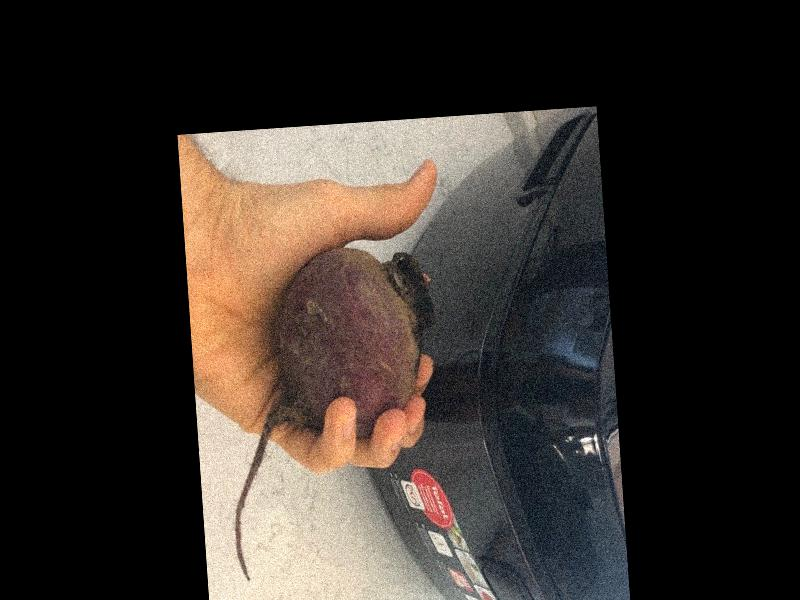Beet: (215, 242, 451, 582)
